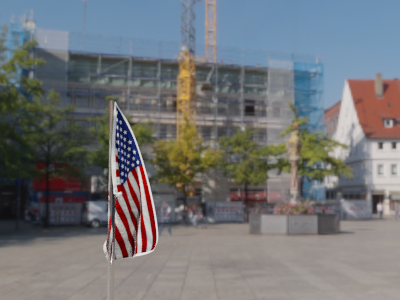America flag: (104, 100, 163, 262)
